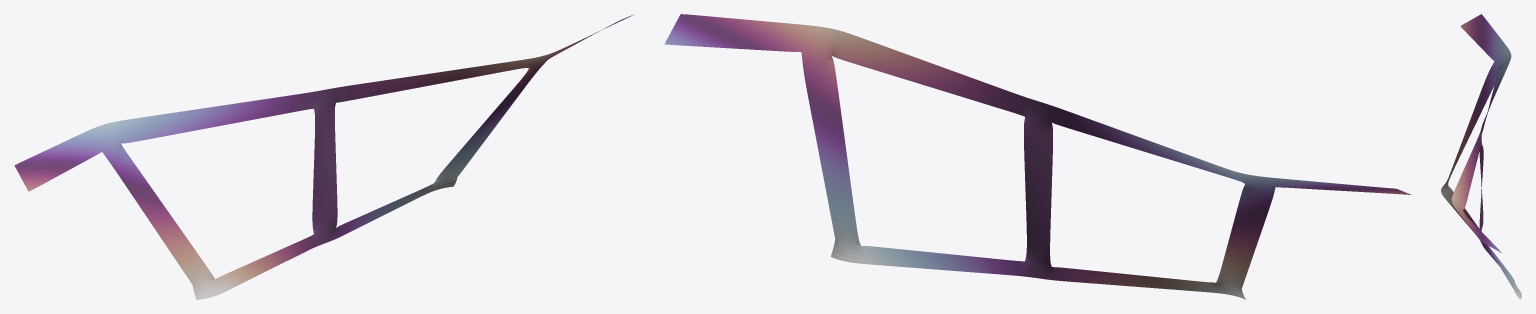
Rendered from girder.glb.
3 views of the same model, side by side, from view 1: azimuth 30°, elevation 25°; view 2: azimuth 150°, elevation 25°; view 3: azimuth 270°, elevation 25° (orthographic). The views are drawn at different scales.
Bounding box in the file's own units: 330 × 78 × 49.55.
